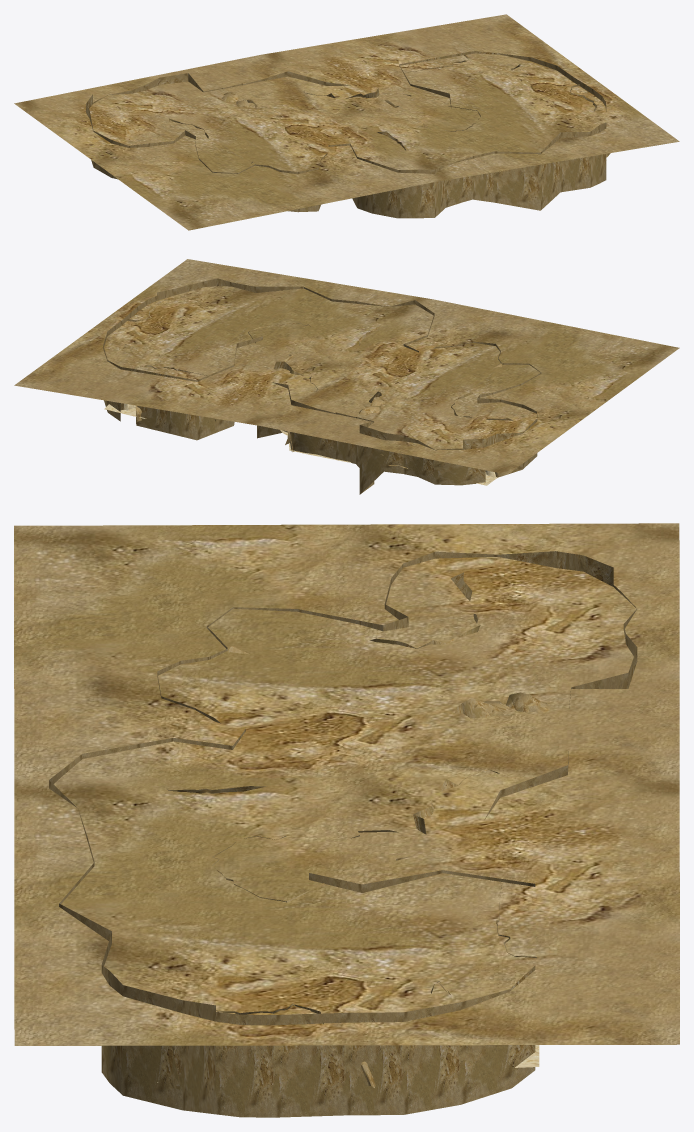
Rendered from cave_b_zero.fbx.
3 renders of one model, top to bottom at view 1: azimuth 30°, elevation 25°; view 2: azimuth 150°, elevation 25°; view 3: azimuth 270°, elevation 25°, orthographic. The views are drawn at different scales.
Parts seen in each view (by area): view 1: ceiling, polySurface7, polySurface3, polySurface8, polySurface5, polySurface4, S1wall_1, polySurface9, polySurface6; view 2: ceiling, polySurface5, polySurface4, S1wall_1, polySurface6, polySurface8, polySurface9, S3wall_2; view 3: ceiling, polySurface9, polySurface8, polySurface4, polySurface5, polySurface7.
Part boxes in pixels (bbox=[...]): ceiling: bbox=[14, 14, 679, 230]; polySurface7: bbox=[328, 143, 461, 218]; polySurface3: bbox=[461, 151, 540, 210]; polySurface8: bbox=[540, 101, 606, 210]; polySurface5: bbox=[86, 85, 195, 179]; polySurface4: bbox=[399, 51, 557, 84]; S1wall_1: bbox=[145, 73, 222, 92]; polySurface9: bbox=[410, 66, 605, 108]; polySurface6: bbox=[243, 71, 411, 96]; ceiling: bbox=[14, 259, 679, 474]; polySurface5: bbox=[403, 395, 537, 485]; polySurface4: bbox=[103, 332, 233, 440]; S1wall_1: bbox=[356, 417, 403, 494]; polySurface6: bbox=[257, 382, 335, 458]; polySurface8: bbox=[157, 278, 303, 300]; polySurface9: bbox=[107, 296, 262, 424]; S3wall_2: bbox=[335, 412, 355, 463]; ceiling: bbox=[14, 523, 679, 1045]; polySurface9: bbox=[216, 870, 442, 1117]; polySurface8: bbox=[59, 903, 215, 1114]; polySurface4: bbox=[403, 870, 535, 1114]; polySurface5: bbox=[383, 551, 636, 642]; polySurface7: bbox=[49, 729, 245, 825].
Bounding box in the file's own units: 125212 × 21570 × 76321.
Materials: 4 (4 with a texture image).
